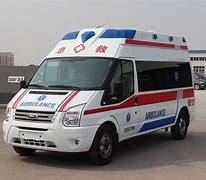specialcar: (11, 19, 197, 158)
